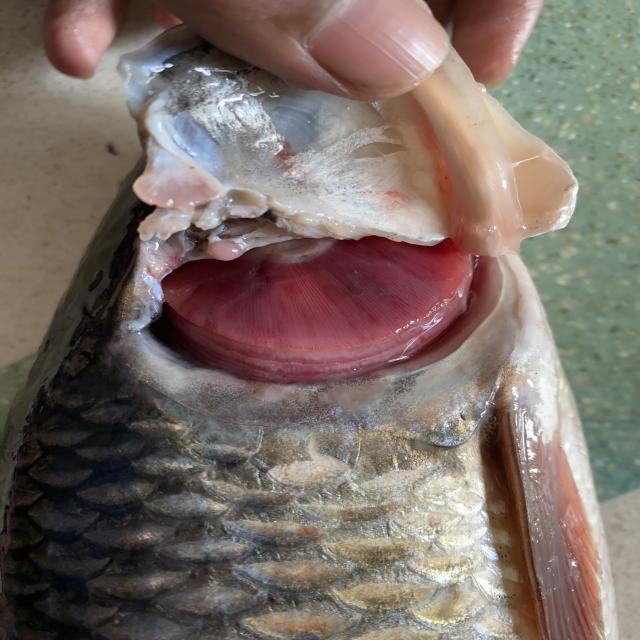Fresh: (136, 222, 524, 406)
